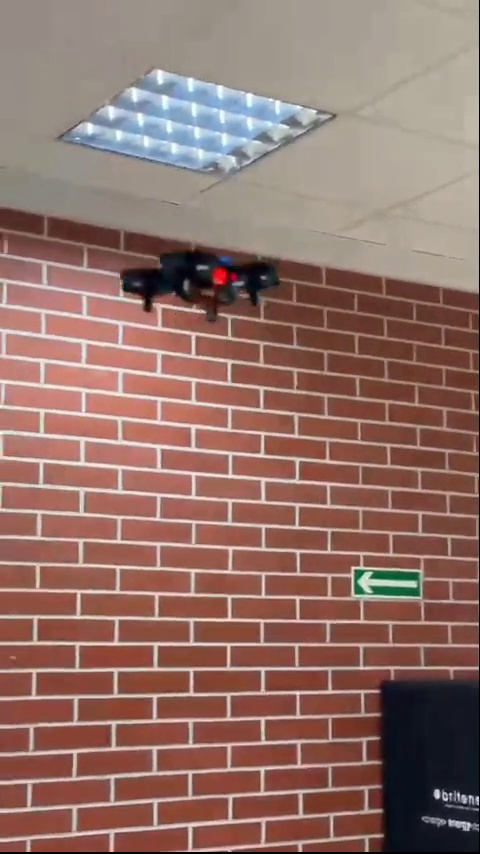drone: (121, 245, 288, 325)
